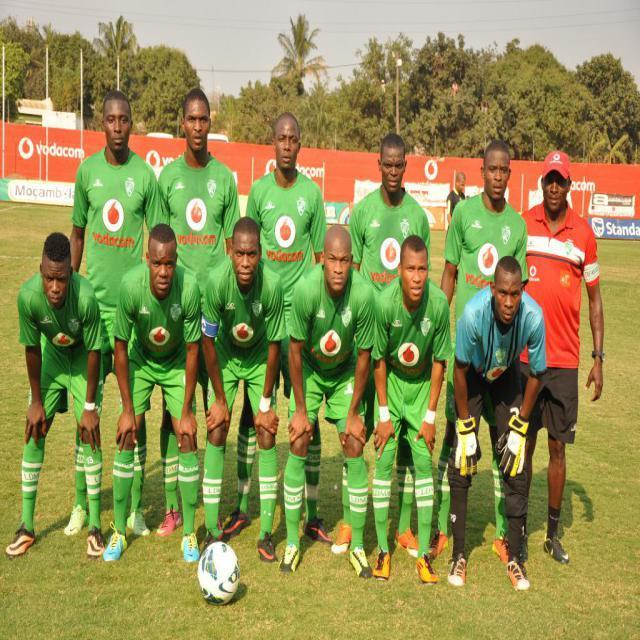football: (180, 537, 254, 604)
